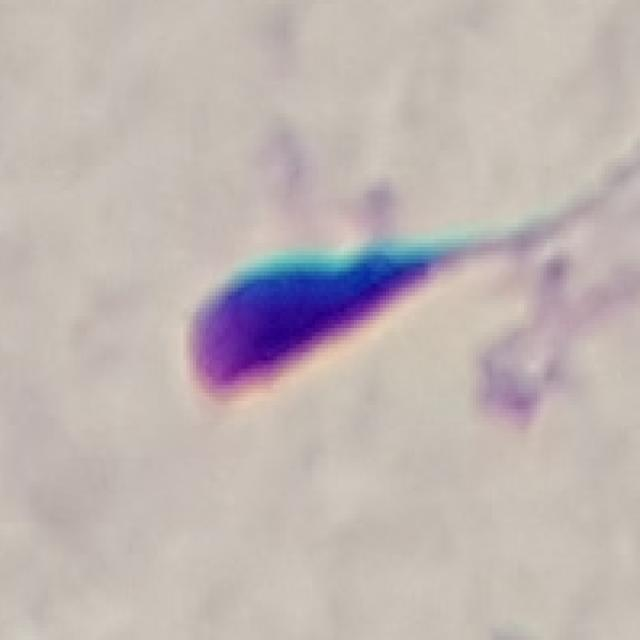abnormal sperm: (193, 170, 640, 421)
